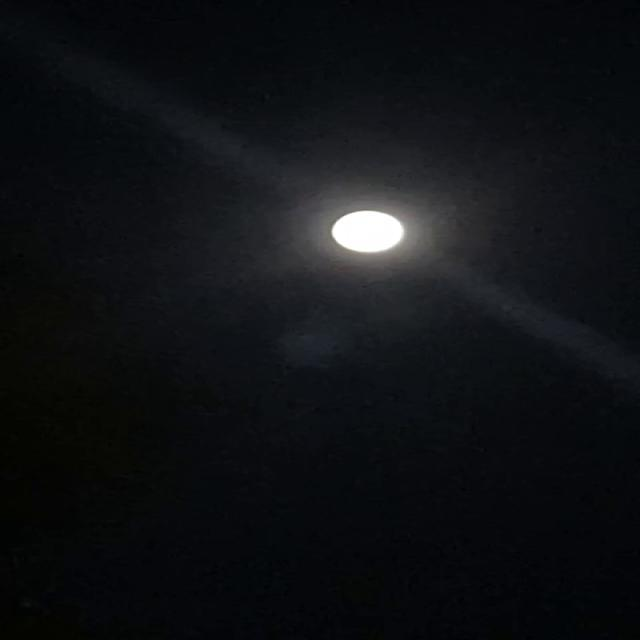moon: (312, 204, 428, 262)
